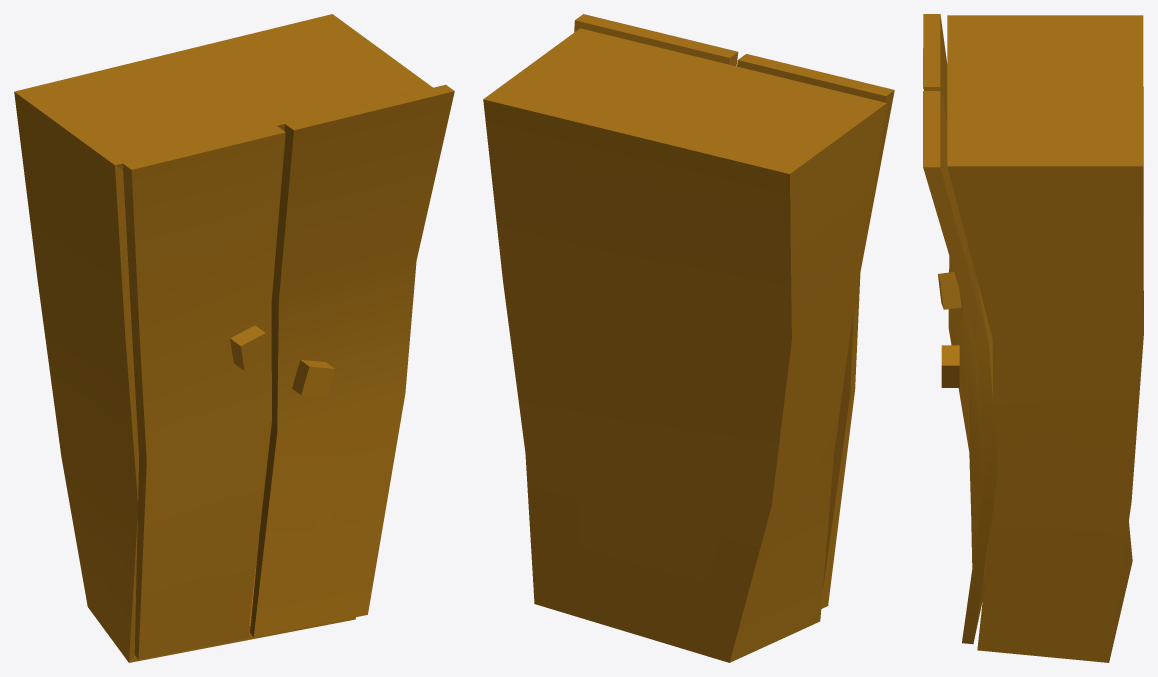
File: cupBoard_mdl.fbx
3 renders of one model, left to right at view 1: azimuth 30°, elevation 25°; view 2: azimuth 150°, elevation 25°; view 3: azimuth 270°, elevation 25°, orthographic. The views are drawn at different scales.
Parts seen in each view (by area): view 1: cupboard_GEO, L_cupboardDoor_GEO, R_cupboardDoor_GEO; view 2: cupboard_GEO, R_cupboardDoor_GEO, L_cupboardDoor_GEO; view 3: cupboard_GEO, L_cupboardDoor_GEO, R_cupboardDoor_GEO.
Boxes of the visible parts, box(x1,y1,x2,y2) form: cupboard_GEO: box(14, 14, 432, 662); L_cupboardDoor_GEO: box(250, 84, 454, 636); R_cupboardDoor_GEO: box(122, 126, 285, 659); cupboard_GEO: box(483, 28, 886, 662); R_cupboardDoor_GEO: box(737, 54, 894, 608); L_cupboardDoor_GEO: box(574, 14, 738, 66); cupboard_GEO: box(947, 15, 1143, 662); L_cupboardDoor_GEO: box(923, 91, 998, 644); R_cupboardDoor_GEO: box(923, 14, 990, 583).
Bounding box in the file's own units: 395 × 613 × 237.
1 material, 1 textured.
